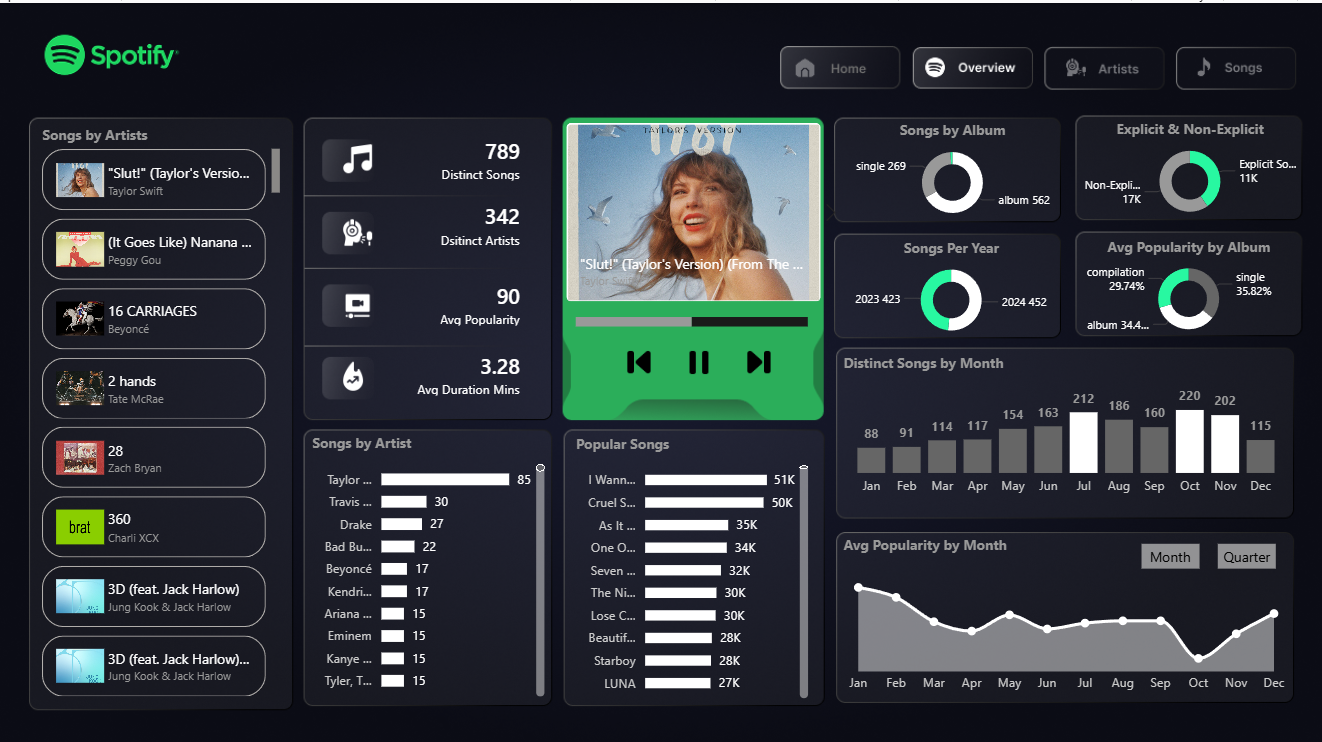

This screenshot's page, from the dashboard's own definition file:
{"tool":"powerbi","page":{"name":"Overview","canvas":[1280,720],"ordinal":1},"visuals":[{"type":"clusteredBarChart","title":"Songs by Artist","fields":{"Y":["_Measures.Distinct Songs"],"Category":["Top-50-World.artist"]},"box":[299.7,415.4,234.4,259.6],"z":0},{"type":"clusteredBarChart","title":"Popular Songs","fields":{"Category":["Top-50-World.song"],"Y":["Sum(Top-50-World.popularity)"]},"box":[554.3,415.7,234.3,260],"z":1000},{"type":"areaChart","fields":{"Y":["_Measures.Avg Popularity"],"Category":["Top-50-World.Month"]},"box":[811.9,513.9,440.4,160.5],"z":2000},{"type":"advancedSlicerVisual","fields":{"Values":["Slicer_Option.Slicer_Option"]},"box":[1094.2,511.5,150.8,44.6],"z":3000},{"type":"donutChart","title":"Songs by Album","fields":{"Y":["_Measures.Distinct Songs per Artist"],"Category":["Top-50-World.album_type"]},"box":[811.9,113.4,220.8,102.5],"z":4000},{"type":"donutChart","title":"Explicit & Non-Explicit","fields":{"Y":["_Measures.Explicit Songs","_Measures.Non-Explicit Songs"]},"box":[1041.2,112.2,220.8,102.5],"z":5000},{"type":"donutChart","title":"Songs Per Year","fields":{"Y":["_Measures.Distinct Songs"],"Category":["Top-50-World.Year"]},"box":[811.3,226.7,220.8,102.5],"z":6000},{"type":"donutChart","title":"Avg Popularity by Album","fields":{"Category":["Top-50-World.album_type"],"Y":["_Measures.Avg Popularity"]},"box":[1040.5,225.5,220.8,102.5],"z":7000},{"type":"clusteredColumnChart","fields":{"Category":["Top-50-World.Month"],"Y":["_Measures.Distinct Songs"]},"box":[811.9,337.8,440.4,146],"z":8000},{"type":"cardVisual","fields":{"Data":["_Measures.Distinct Songs"]},"box":[365.2,112.9,168.7,75.7],"z":9000},{"type":"cardVisual","fields":{"Data":["Count(Top-50-World.artist)"]},"box":[365.2,176.6,168.7,77],"z":10000},{"type":"cardVisual","fields":{"Data":["_Measures.Avg Popularity"]},"box":[365.2,253.7,168.7,75.7],"z":11000},{"type":"cardVisual","fields":{"Data":["_Measures.Avg Duration Minutes"]},"box":[365.2,321.4,168.7,75.7],"z":12000},{"type":"image","box":[317.4,346.6,61.1,27.9],"z":13000},{"type":"image","box":[317.4,278.9,61.1,27.9],"z":14000},{"type":"image","box":[317.4,207.2,61.1,27.9],"z":15000},{"type":"image","box":[317.4,136.8,61.1,27.9],"z":16000},{"type":"advancedSlicerVisual","title":"Songs by Artists","fields":{"Values":["Top-50-World.song"]},"box":[38.5,118.2,239.1,556.5],"z":17000},{"type":"advancedSlicerVisual","title":"Songs by Artists","fields":{"Values":["Top-50-World.song"]},"box":[524.8,111,295.6,182.2],"z":18000},{"type":"hundredPercentStackedBarChart","fields":{"Y":["_Measures.Avg Popularity","Avg(Top-50-World.popularity)"]},"box":[553.8,271.4,234,66.4],"z":19000},{"type":"image","box":[599.6,334.4,40,25],"z":20000},{"type":"image","box":[715.4,334.4,40,25],"z":21000},{"type":"image","box":[657.5,331.6,39.8,30.2],"z":22000},{"type":"shape","box":[550.1,113.4,246.1,283.5],"z":23000},{"type":"actionButton","box":[756.4,41.3,114.6,36.2],"z":24000},{"type":"actionButton","box":[886.7,41.3,109.8,36.2],"z":25000},{"type":"actionButton","box":[1014.6,42.5,106.2,35],"z":26000},{"type":"actionButton","box":[1138.9,41.3,112.2,36.2],"z":27000}]}

Visuals, with their boxes in screenshot pixels (x1, y1, x2, y2), scaled from the page's 1280x720 canvas onto the 1322x742 screenshot:
"Songs by Artist" clusteredBarChart: locate(310, 428, 552, 696)
"Popular Songs" clusteredBarChart: locate(572, 428, 814, 696)
areaChart - _Measures.Avg Popularity x Top-50-World.Month: locate(839, 530, 1293, 695)
advancedSlicerVisual - Slicer_Option.Slicer_Option: locate(1130, 527, 1286, 573)
"Songs by Album" donutChart: locate(839, 117, 1067, 222)
"Explicit & Non-Explicit" donutChart: locate(1075, 116, 1303, 221)
"Songs Per Year" donutChart: locate(838, 234, 1066, 339)
"Avg Popularity by Album" donutChart: locate(1075, 232, 1303, 338)
clusteredColumnChart - Top-50-World.Month x _Measures.Distinct Songs: locate(839, 348, 1293, 499)
cardVisual - _Measures.Distinct Songs: locate(377, 116, 551, 194)
cardVisual - Count(Top-50-World.artist): locate(377, 182, 551, 261)
cardVisual - _Measures.Avg Popularity: locate(377, 261, 551, 339)
cardVisual - _Measures.Avg Duration Minutes: locate(377, 331, 551, 409)
image: locate(328, 357, 391, 386)
image: locate(328, 287, 391, 316)
image: locate(328, 214, 391, 242)
image: locate(328, 141, 391, 170)
"Songs by Artists" advancedSlicerVisual: locate(40, 122, 287, 695)
"Songs by Artists" advancedSlicerVisual: locate(542, 114, 847, 302)
hundredPercentStackedBarChart - _Measures.Avg Popularity x Avg(Top-50-World.popularity): locate(572, 280, 814, 348)
image: locate(619, 345, 661, 370)
image: locate(739, 345, 780, 370)
image: locate(679, 342, 720, 373)
shape: locate(568, 117, 822, 409)
actionButton: locate(781, 43, 900, 80)
actionButton: locate(916, 43, 1029, 80)
actionButton: locate(1048, 44, 1158, 80)
actionButton: locate(1176, 43, 1292, 80)
